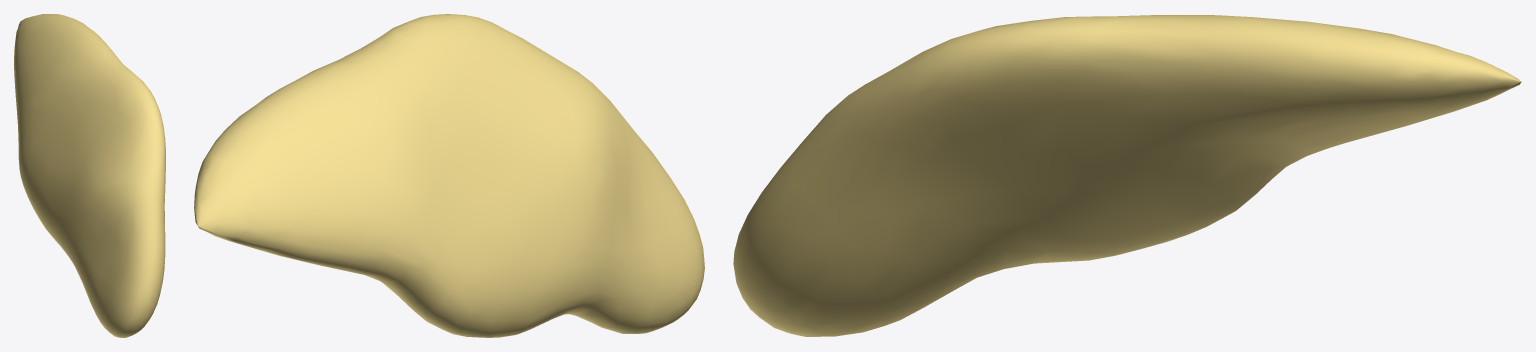
The model's file is fma72983_mm2791.glb.
3 views of the same model, side by side, from view 1: azimuth 30°, elevation 25°; view 2: azimuth 150°, elevation 25°; view 3: azimuth 270°, elevation 25° (orthographic). The views are drawn at different scales.
Visible parts, largest first — view 1: FMA72983_MM2791; view 2: FMA72983_MM2791; view 3: FMA72983_MM2791.
Part boxes in pixels (bbox=[...]): FMA72983_MM2791: bbox=[14, 14, 165, 337]; FMA72983_MM2791: bbox=[194, 14, 704, 337]; FMA72983_MM2791: bbox=[733, 15, 1521, 336].
Bounding box in the file's own units: 0.00229 × 0.00363 × 0.00664.
